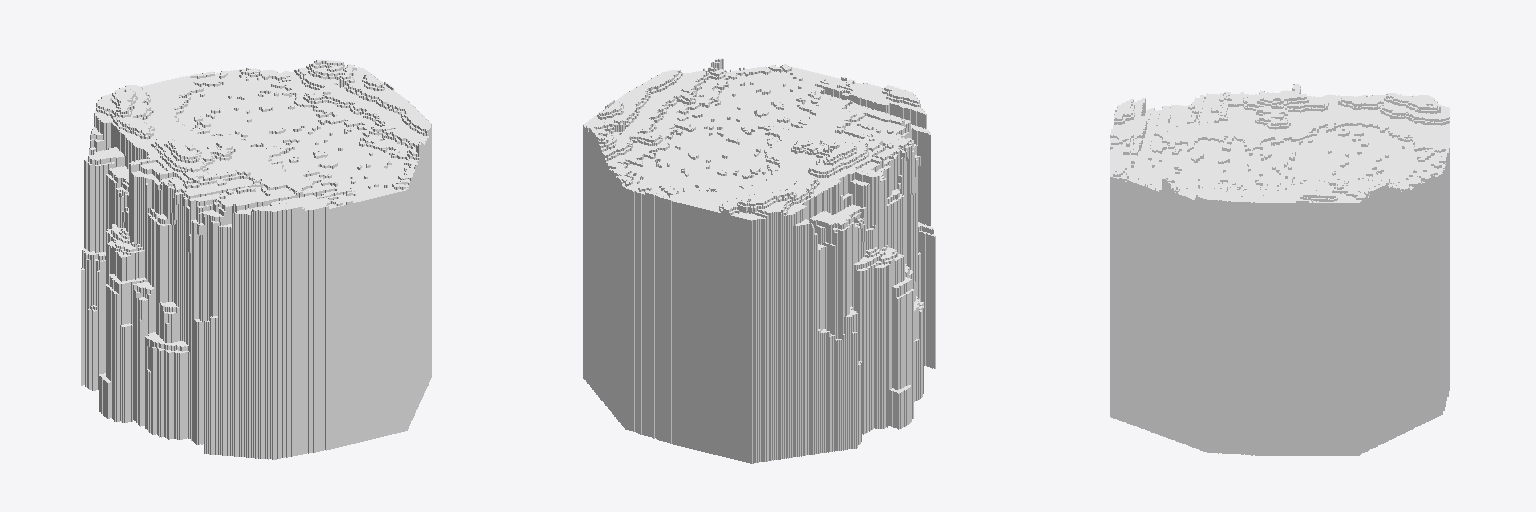
The model's file is factory4.1-21.obj.
The picture shows the model from 3 angles: view 1: azimuth 30°, elevation 25°; view 2: azimuth 150°, elevation 25°; view 3: azimuth 270°, elevation 25°; orthographic projection.
Visible parts, largest first — view 1: object 1; view 2: object 1; view 3: object 1.
Boxes of the visible parts, <box> form: object 1: <box>81,59,431,459</box>; object 1: <box>583,58,935,463</box>; object 1: <box>1110,84,1449,455</box>.
Size of the model in its own units: 25.4 by 21.4 by 25.6.